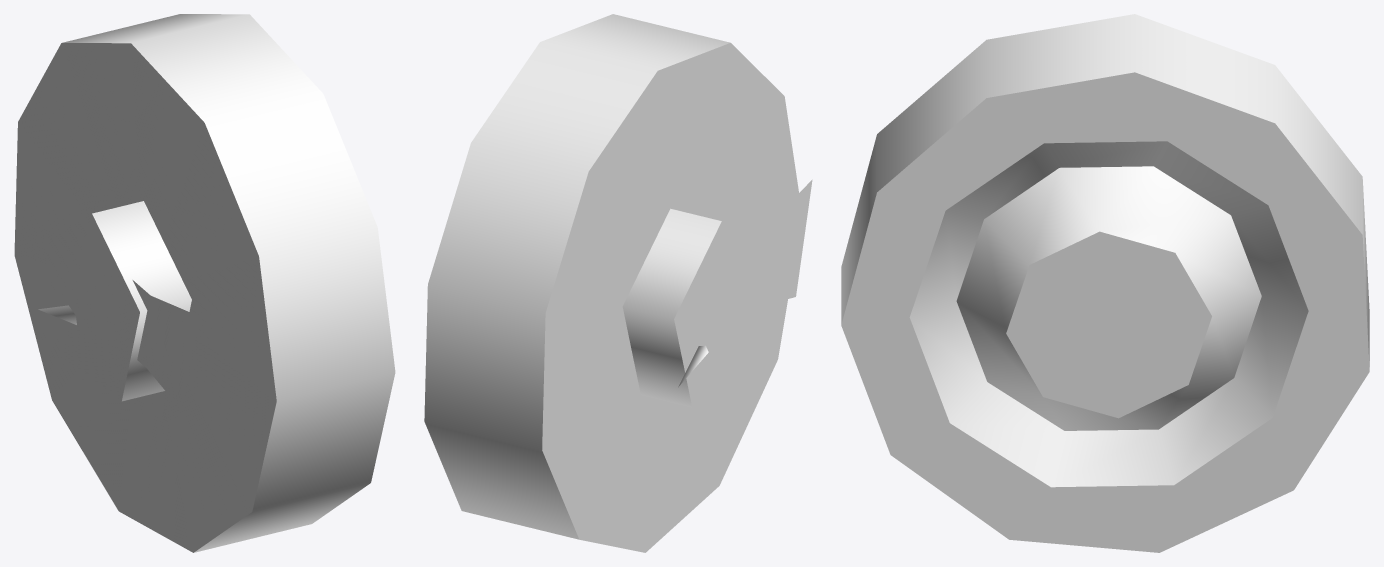
3 renders of one model, left to right at view 1: azimuth 30°, elevation 25°; view 2: azimuth 150°, elevation 25°; view 3: azimuth 270°, elevation 25°, orthographic.
Bounding box in the file's own units: 0.2856 × 0.66 × 0.6576.
1 material, 1 textured.
